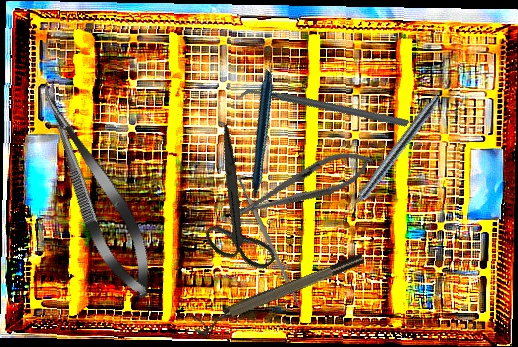Chopper: (237, 31, 410, 187)
Fixation Ring: (189, 250, 369, 339)
Handpiece: (184, 68, 332, 218), (339, 91, 443, 223)
Iris Scissors: (157, 124, 315, 286)
Micro Scissor: (23, 72, 167, 307)
Needle Holder: (226, 141, 379, 231)
Scalpel Handle: (235, 173, 303, 309)
